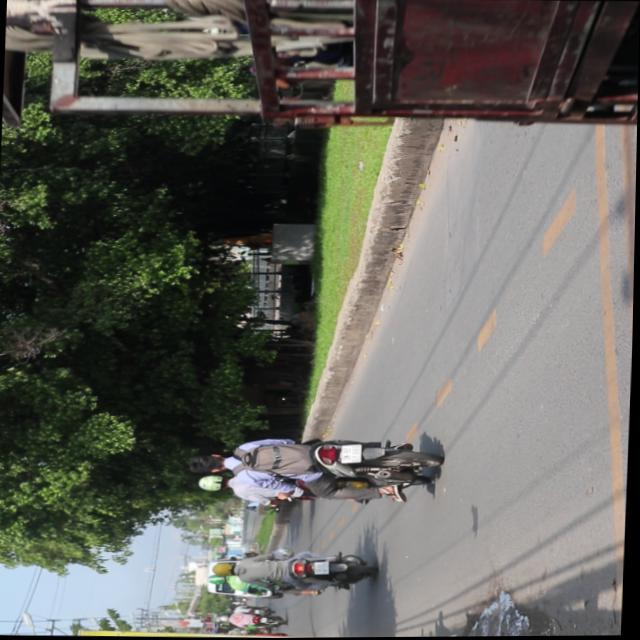helmet: (197, 473, 230, 492)
licenseplate: (189, 431, 443, 498)
motorcyclist: (190, 451, 231, 473)
nohelmet: (341, 444, 361, 463)
